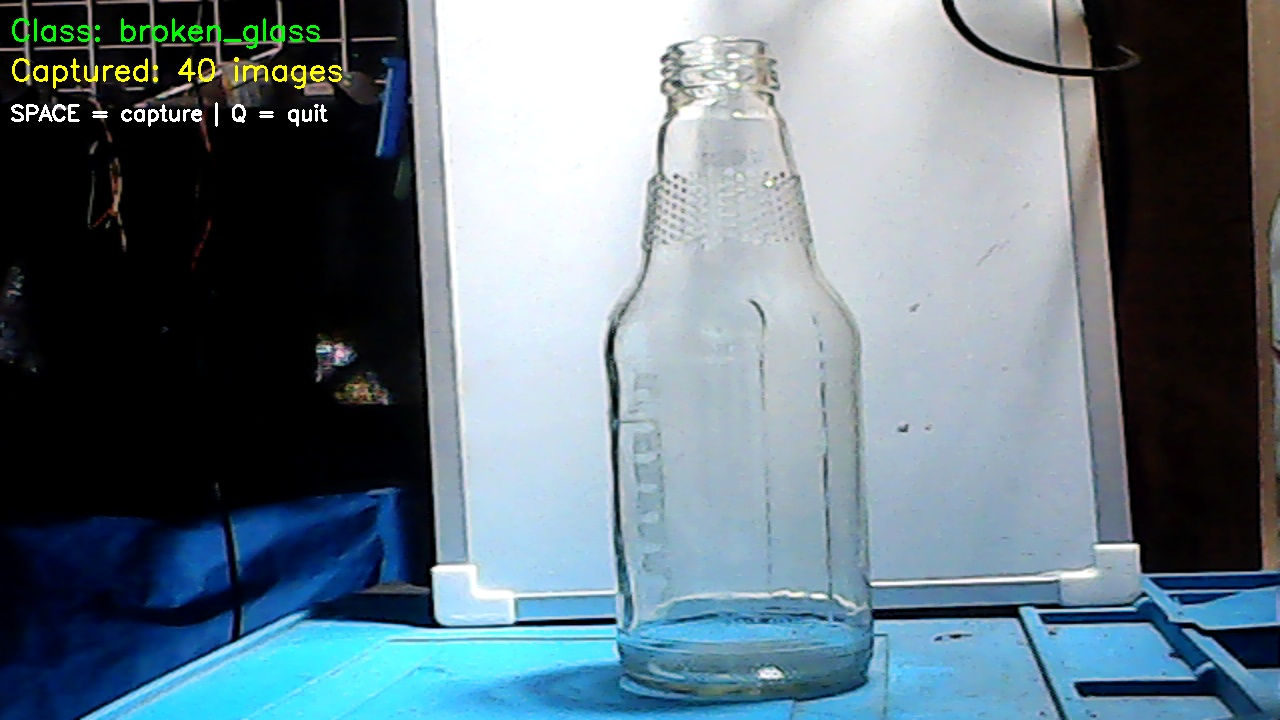broken_glass: (589, 24, 874, 699)
